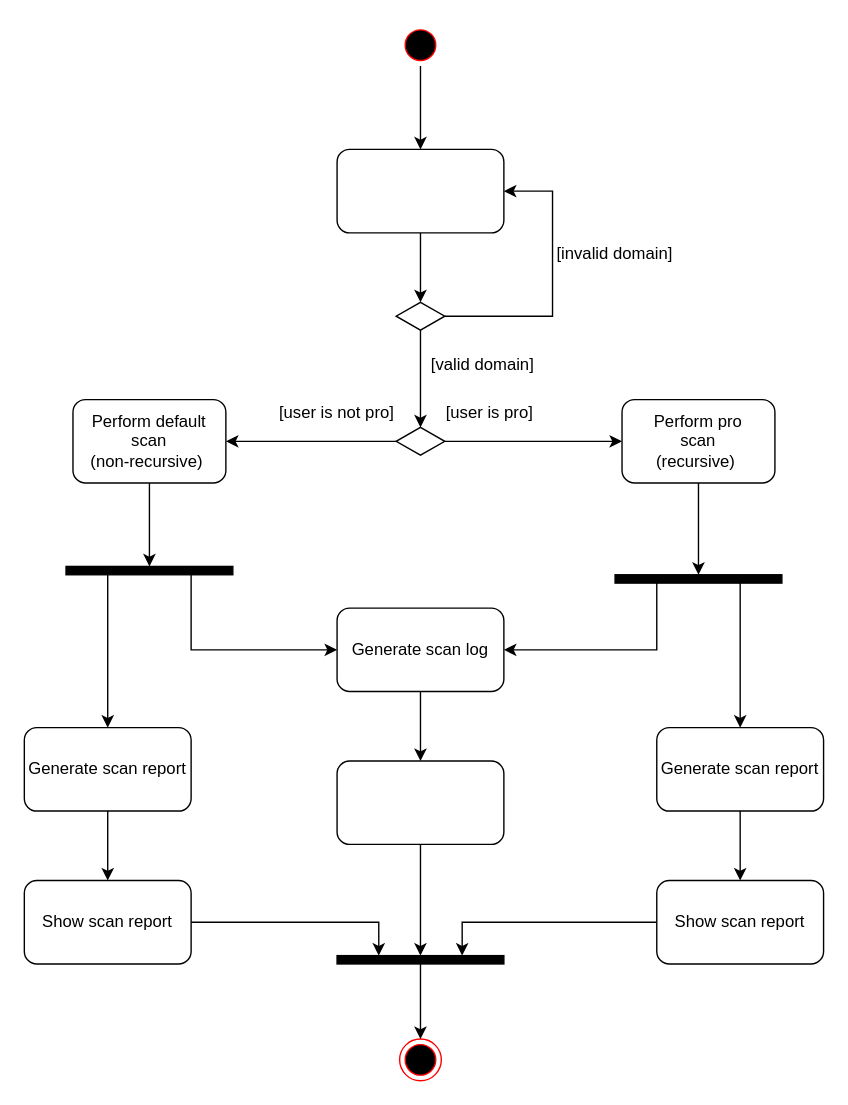
Image size: 848x1105. Some labels were removed from this diagram. Each missing label, with the centre of its shape:
"Store scan log in database" goes at point (420, 802).
"User enters scan options" goes at point (420, 190).
